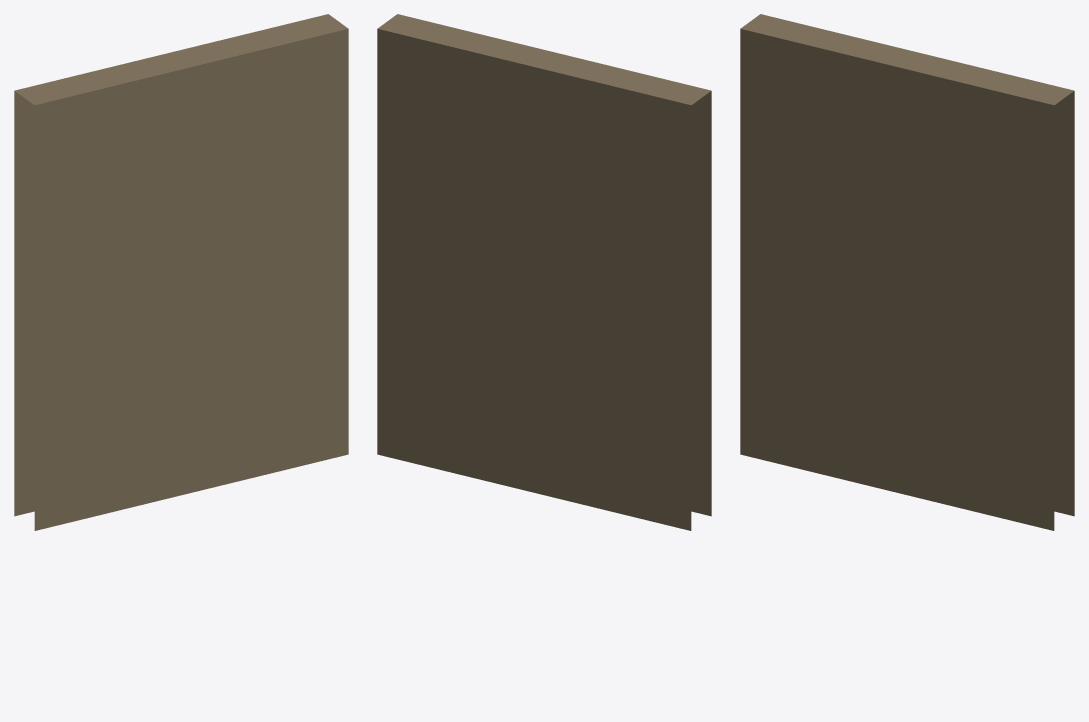
File: SM_Wall_180.fbx
3 views of the same model, side by side, from view 1: azimuth 30°, elevation 25°; view 2: azimuth 150°, elevation 25°; view 3: azimuth 330°, elevation 25° (orthographic).
Visible parts, largest first — view 1: SM_Wall_180; view 2: SM_Wall_180; view 3: SM_Wall_180.
Boxes of the visible parts, x1,y1,x2,y2 form: SM_Wall_180: (14, 14, 348, 530); SM_Wall_180: (377, 14, 711, 530); SM_Wall_180: (740, 14, 1074, 530).
Size of the model in its own units: 180 by 330 by 20.
Materials: 3 (3 with a texture image).
